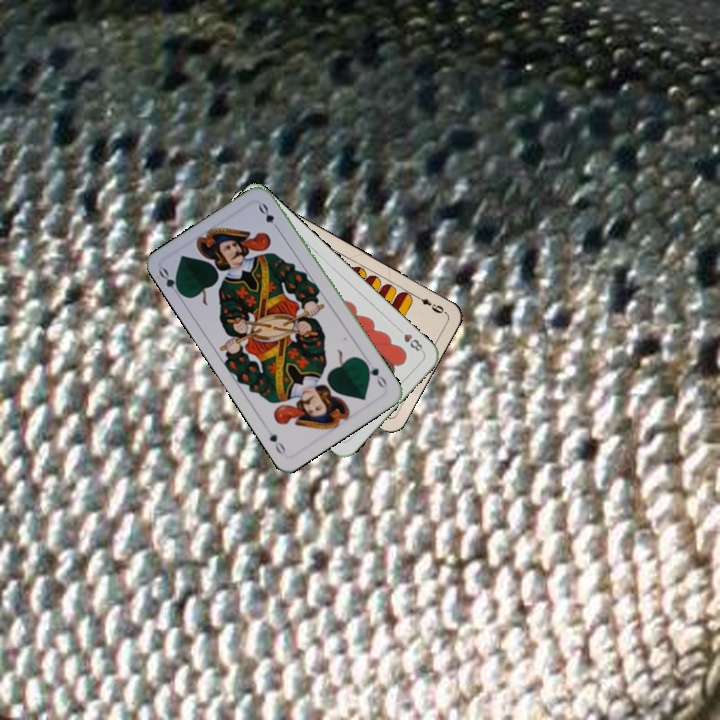E9: (411, 291, 448, 316)
GO: (154, 264, 186, 301), (360, 357, 390, 392)
H8: (393, 324, 426, 355)
